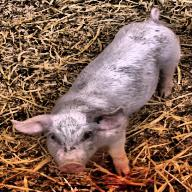boar: (9, 7, 181, 174)
